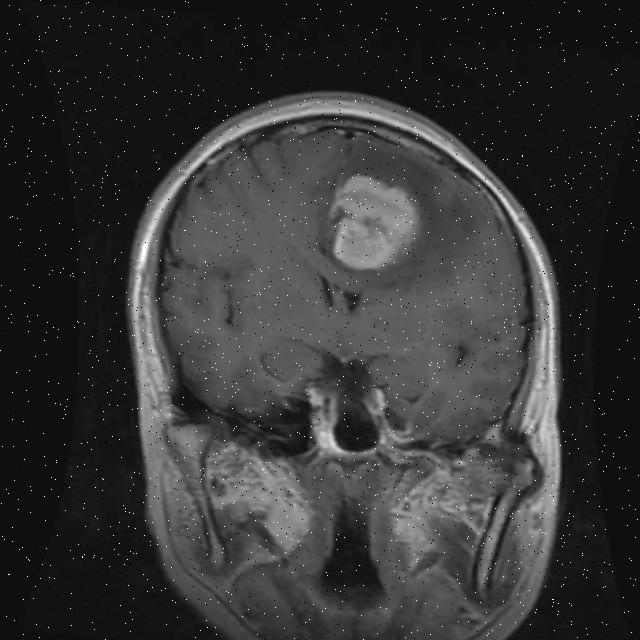Meningioma: (326, 169, 424, 275)
